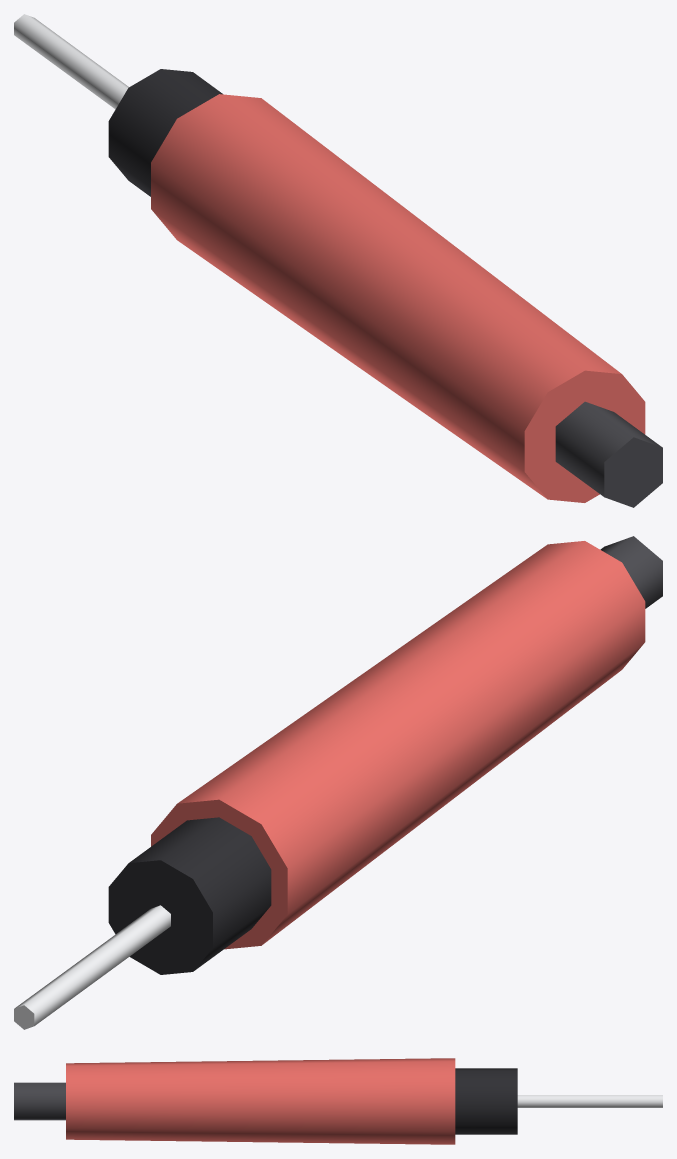
File: tool-probe.glb
The picture shows the model from 3 angles, top to bottom: view 1: azimuth 30°, elevation 25°; view 2: azimuth 150°, elevation 25°; view 3: azimuth 270°, elevation 25°; orthographic projection. The views are drawn at different scales.
Visible parts, largest first — view 1: body; view 2: body; view 3: body.
Part boxes in pixels (bbox=[...]): body: bbox=[14, 14, 662, 507]; body: bbox=[14, 536, 662, 1029]; body: bbox=[14, 1058, 662, 1144].
Size of the model in its own units: 0.0162 by 0.017 by 0.125.
